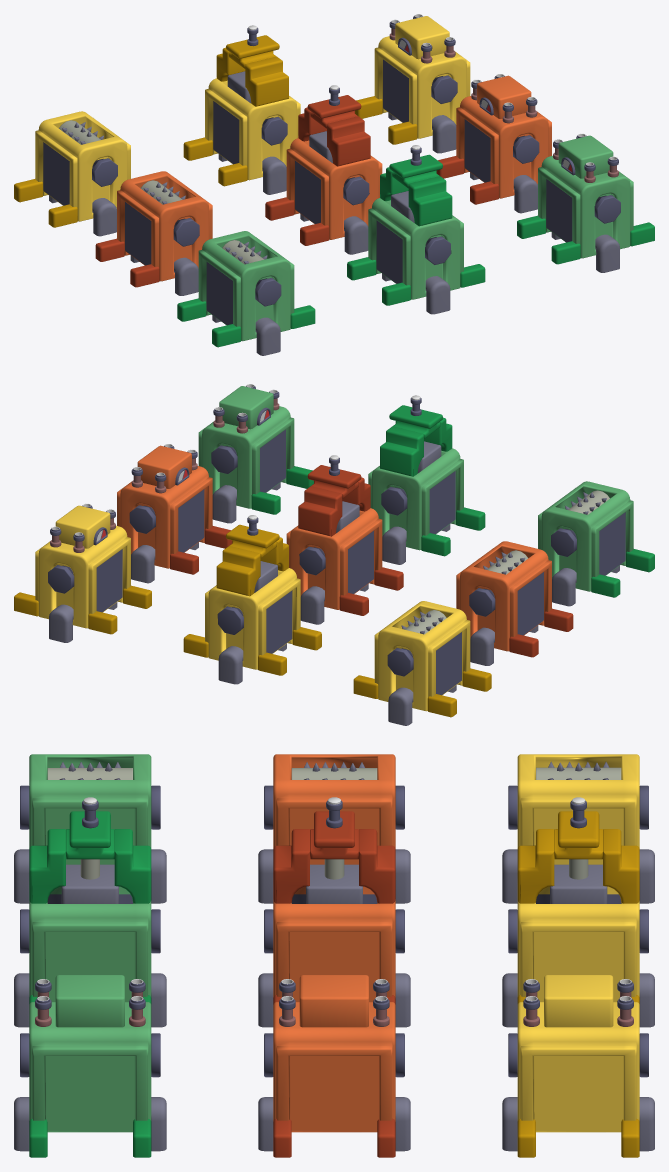
Rendered from Machines.fbx.
3 views of the same model, one above another, from view 1: azimuth 30°, elevation 25°; view 2: azimuth 150°, elevation 25°; view 3: azimuth 270°, elevation 25° (orthographic). The views are drawn at different scales.
Parts seen in each view (by area): view 1: EmraldSmasher.001, RubySmasher.001, GoldSmasher.001, EmraldOven.001, GoldOven.001, RubyOven.001, EmraldCracker.001, RubyCracker.001, GoldCracker.001, Cylinder.004, Cylinder.002, Cylinder.003; view 2: GoldSmasher.001, RubySmasher.001, EmraldSmasher.001, GoldOven.001, EmraldOven.001, RubyOven.001, GoldCracker.001, RubyCracker.001, EmraldCracker.001, Cylinder.004, Cylinder.002, Cylinder.003; view 3: EmraldOven.001, GoldOven.001, RubyOven.001, GoldSmasher.001, EmraldSmasher.001, RubySmasher.001, RubyCracker.001, EmraldCracker.001, GoldCracker.001, Cube.004, Cube.013, Cube.009 (+3 smaller).
Part boxes in pixels (x1,y1,x2,y2): EmraldSmasher.001: (347, 145, 485, 314); RubySmasher.001: (265, 85, 382, 254); GoldSmasher.001: (183, 25, 300, 194); EmraldOven.001: (517, 133, 654, 272); GoldOven.001: (355, 14, 470, 153); RubyOven.001: (436, 74, 551, 213); EmraldCracker.001: (177, 231, 315, 355); RubyCracker.001: (95, 171, 212, 295); GoldCracker.001: (14, 111, 130, 236); Cylinder.004: (59, 120, 103, 144); Cylinder.002: (222, 240, 267, 264); Cylinder.003: (140, 180, 185, 204); GoldSmasher.001: (183, 515, 321, 684); RubySmasher.001: (286, 455, 403, 624); EmraldSmasher.001: (368, 395, 485, 564); GoldOven.001: (14, 503, 151, 642); EmraldOven.001: (198, 384, 313, 523); RubyOven.001: (117, 444, 232, 583); GoldCracker.001: (353, 601, 491, 725); RubyCracker.001: (456, 541, 573, 665); EmraldCracker.001: (538, 481, 654, 606); Cylinder.004: (401, 610, 446, 634); Cylinder.002: (565, 490, 609, 514); Cylinder.003: (483, 550, 528, 574); EmraldOven.001: (14, 975, 166, 1157); GoldOven.001: (502, 975, 654, 1157); RubyOven.001: (258, 975, 410, 1157); GoldSmasher.001: (502, 797, 654, 1027); EmraldSmasher.001: (14, 797, 166, 1027); RubySmasher.001: (258, 797, 410, 1027); RubyCracker.001: (258, 754, 410, 903); EmraldCracker.001: (14, 754, 166, 903); GoldCracker.001: (502, 754, 654, 903); Cube.004: (61, 864, 118, 903); Cube.013: (550, 864, 607, 903); Cube.009: (306, 864, 362, 903).
Bounding box in the file's own units: 12.4 × 3.98 × 10.5.
1 material, 1 textured.
